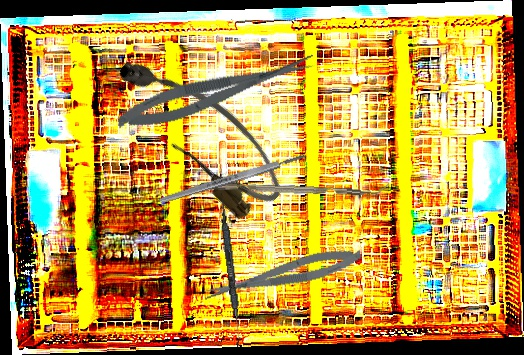Cannula: (105, 31, 296, 229)
Chopper: (200, 173, 389, 199)
Micro Scissor: (112, 47, 320, 137), (200, 243, 364, 305)
Scalpel Handle: (157, 151, 308, 206)
Spatula Surgical: (215, 192, 246, 347)
